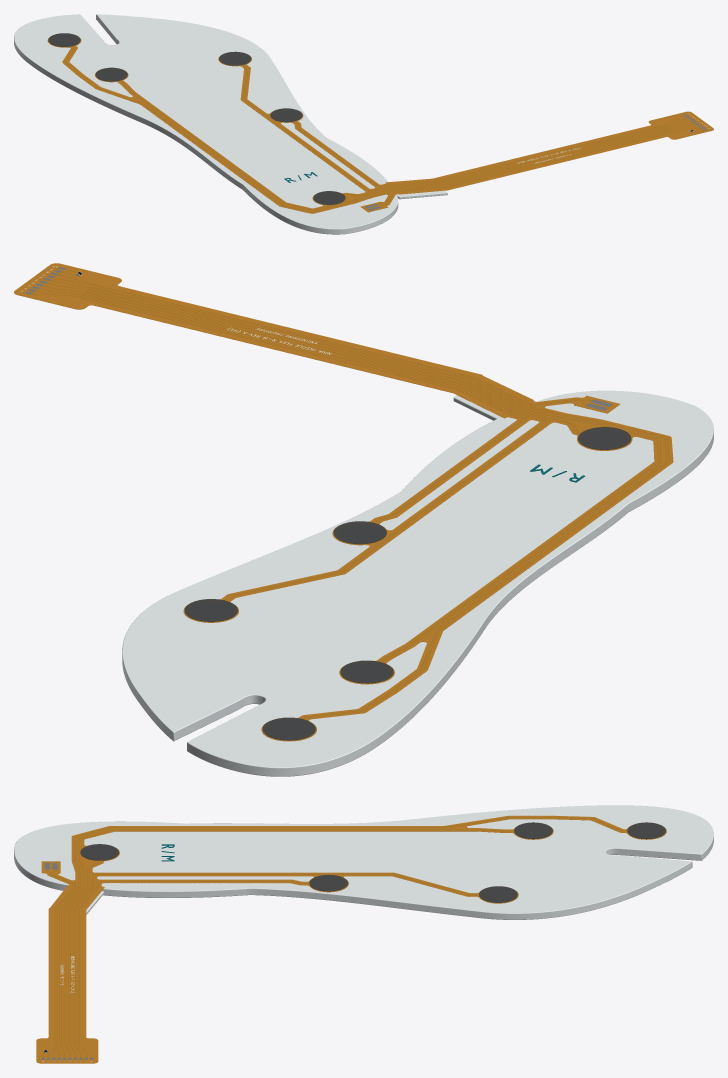
Rendered from 07_Insole_Flex.glb.
3 renders of one model, top to bottom at view 1: azimuth 30°, elevation 25°; view 2: azimuth 150°, elevation 25°; view 3: azimuth 270°, elevation 25°, orthographic. The views are drawn at different scales.
Visible parts, largest first — view 1: Insole_R.002, =>[0:1:1:7].001, =>[0:1:1:9].001, FSR_film_P4, FSR_film_P2, FSR_film_P1, FSR_film_P3, FSR_film_P5; view 2: Insole_R.002, =>[0:1:1:7].001, =>[0:1:1:9].001, =>[0:1:1:3].001, FSR_film_P1, FSR_film_P2, FSR_film_P4, FSR_film_P3, FSR_film_P5; view 3: Insole_R.002, =>[0:1:1:7].001, =>[0:1:1:9].001, =>[0:1:1:3].001, FSR_film_P3, FSR_film_P5, FSR_film_P1, FSR_film_P4, FSR_film_P2.
Part boxes in pixels (x1,y1,x2,y2): Insole_R.002: (14, 14, 447, 234); =>[0:1:1:7].001: (47, 36, 713, 213); =>[0:1:1:9].001: (47, 38, 713, 213); FSR_film_P4: (270, 108, 302, 122); FSR_film_P2: (95, 67, 127, 81); FSR_film_P1: (48, 33, 80, 46); FSR_film_P3: (219, 51, 251, 65); FSR_film_P5: (313, 191, 345, 204); Insole_R.002: (122, 390, 713, 776); =>[0:1:1:7].001: (14, 263, 673, 741); =>[0:1:1:9].001: (14, 263, 672, 741); =>[0:1:1:3].001: (36, 270, 669, 719); FSR_film_P1: (262, 717, 315, 740); FSR_film_P2: (340, 660, 393, 683); FSR_film_P4: (333, 521, 386, 544); FSR_film_P3: (184, 599, 237, 621); FSR_film_P5: (578, 427, 631, 449); Insole_R.002: (14, 805, 713, 919); =>[0:1:1:7].001: (36, 815, 666, 1063); =>[0:1:1:9].001: (36, 816, 666, 1063); =>[0:1:1:3].001: (43, 817, 590, 1056); FSR_film_P3: (479, 886, 517, 902); FSR_film_P5: (80, 844, 118, 860); FSR_film_P1: (627, 822, 665, 839); FSR_film_P4: (309, 874, 347, 891); FSR_film_P2: (514, 822, 552, 839).
Size of what is drawn, in the model's own units: 0.2271 by 0.00341 by 0.2598.
